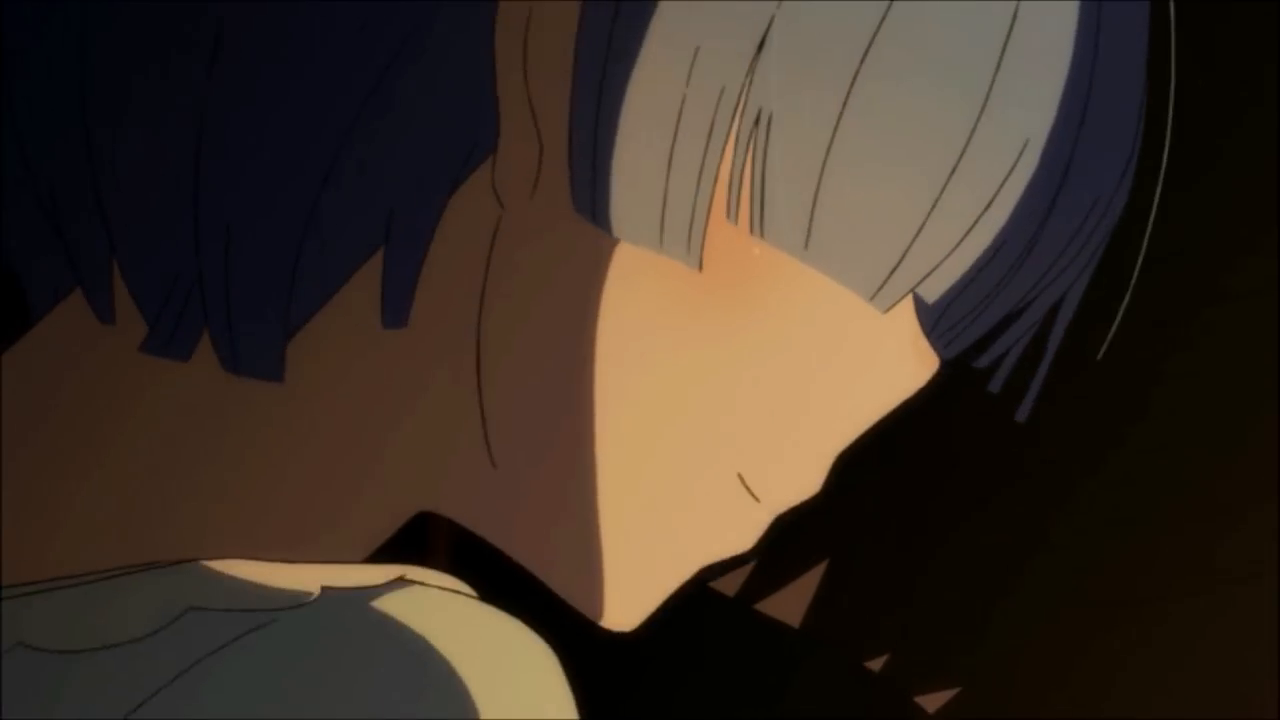REM: (1, 1, 1168, 631)
